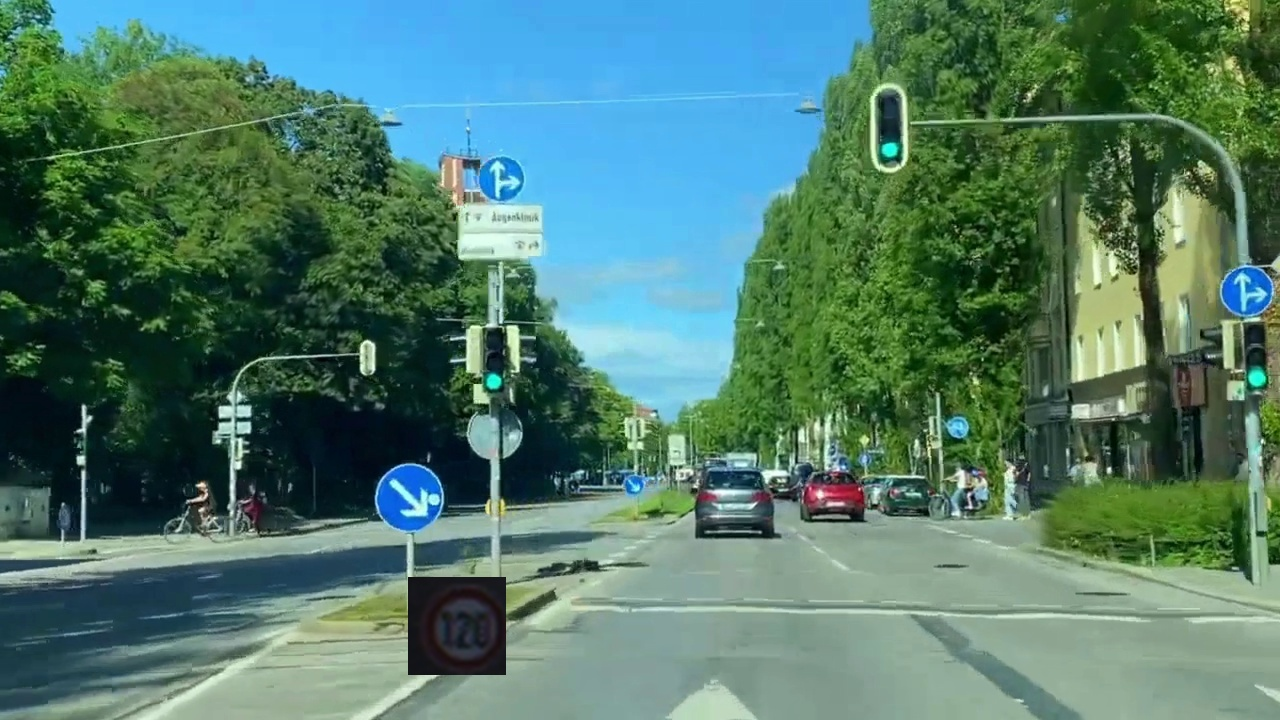Speed 120: (408, 577, 506, 675)
